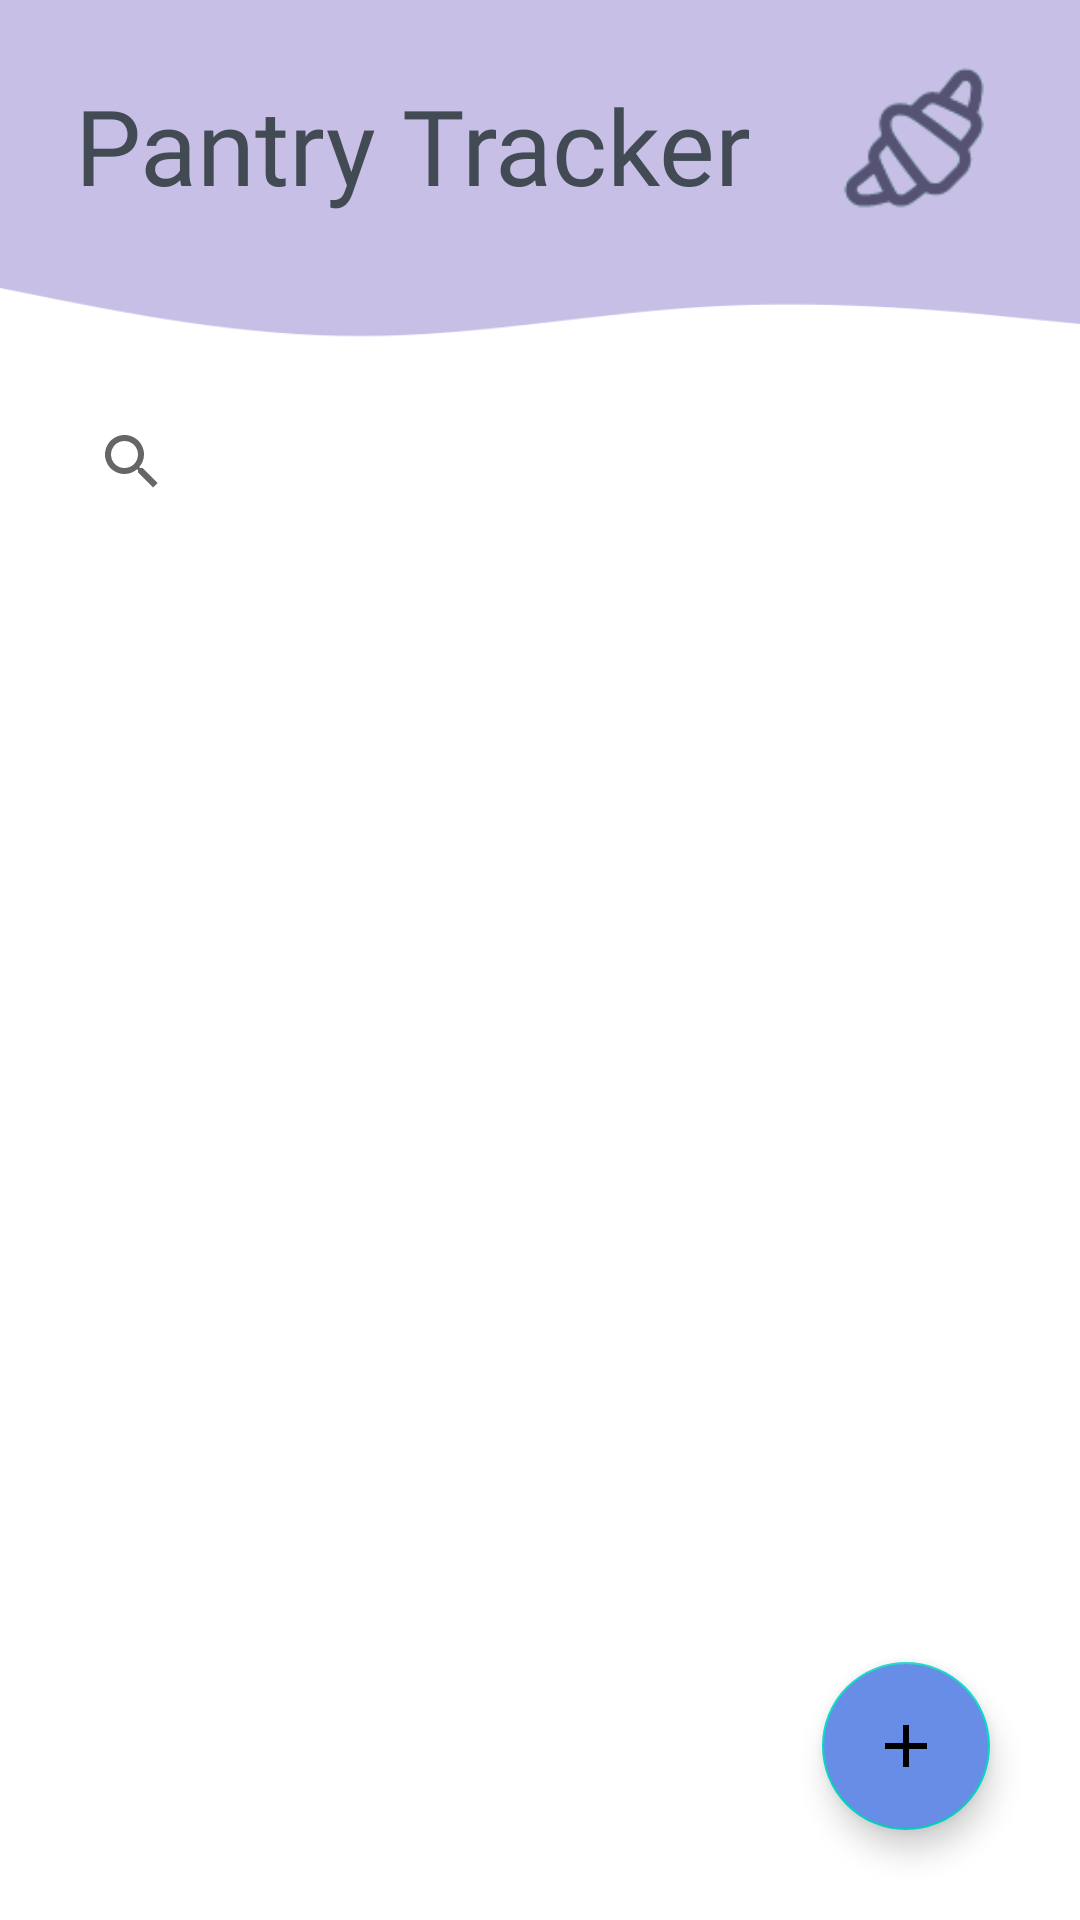

Icon bounding boxes for this 1080w x 1920h phone screenshot, format bbox=(x1, y1, x2, y2):
add: bbox=(822, 1662, 990, 1830)
croissant: bbox=(844, 68, 984, 207)
